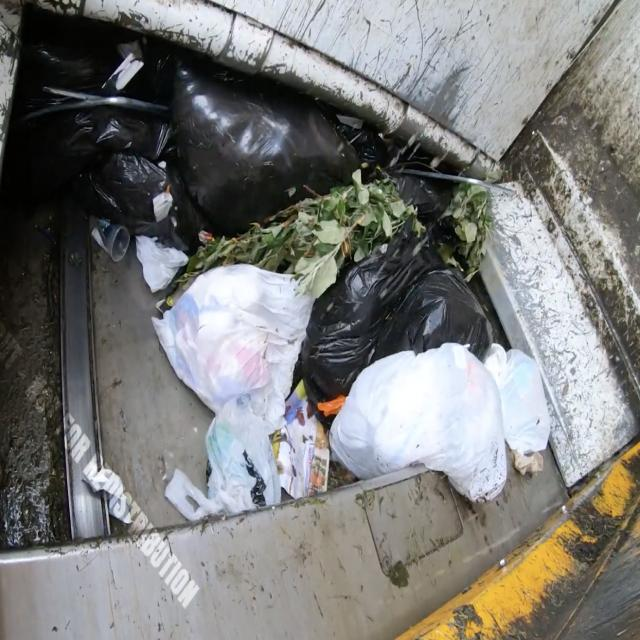bag: (169, 253, 563, 507)
yard: (59, 58, 450, 236), (173, 174, 502, 294)
